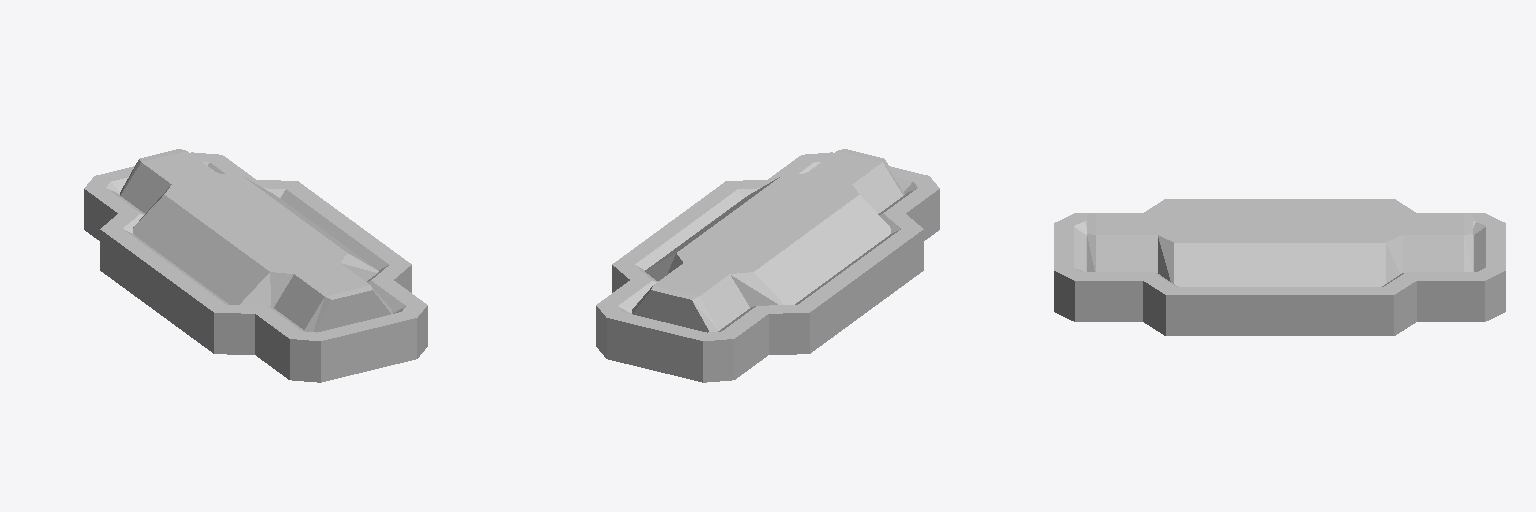
The model's file is Светильник 2.obj.
The picture shows the model from 3 angles: view 1: azimuth 30°, elevation 25°; view 2: azimuth 150°, elevation 25°; view 3: azimuth 270°, elevation 25°; orthographic projection.
Visible parts, largest first — view 1: Cube, Cube.001; view 2: Cube, Cube.001; view 3: Cube.001, Cube.
Part boxes in pixels (bbox=[...]): Cube: bbox=[84, 152, 427, 382]; Cube.001: bbox=[120, 149, 391, 332]; Cube: bbox=[596, 152, 939, 382]; Cube.001: bbox=[632, 149, 903, 332]; Cube.001: bbox=[1087, 205, 1472, 286]; Cube: bbox=[1054, 199, 1505, 335].
Size of the model in its own units: 1 by 0.3117 by 1.98.